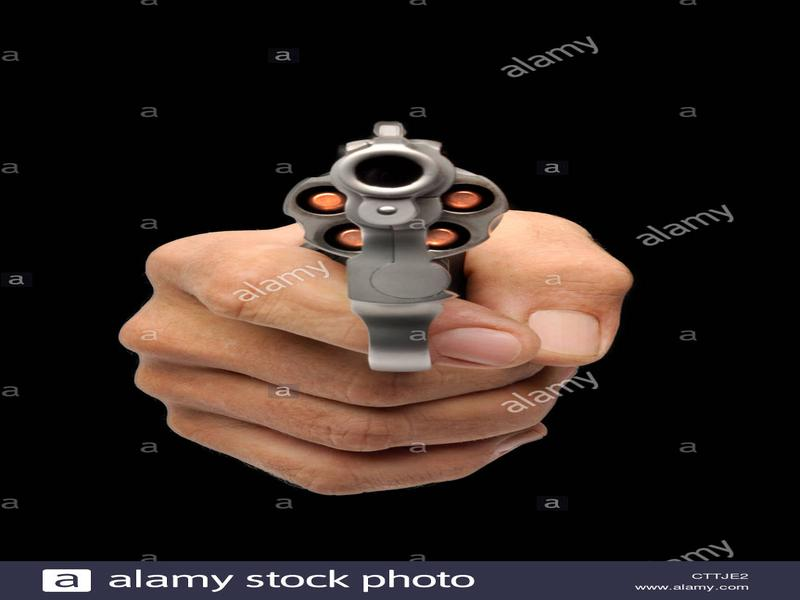Revolver: (281, 99, 511, 377)
